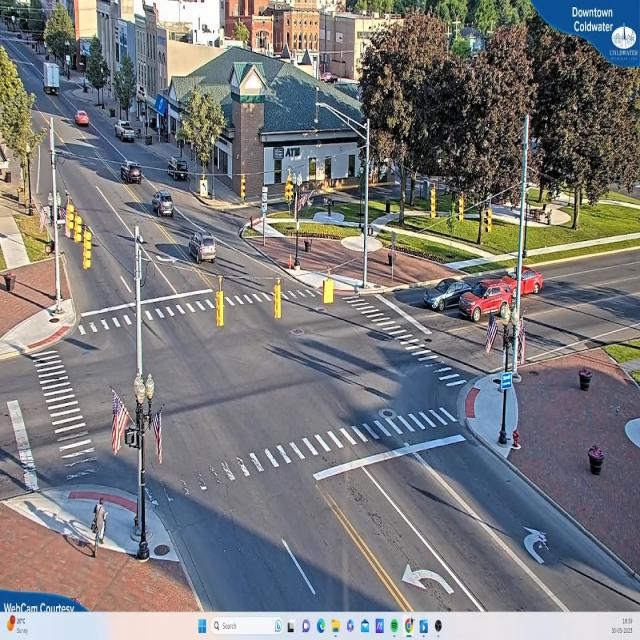car: (188, 233, 218, 264), (152, 190, 174, 218), (587, 442, 605, 474), (119, 162, 142, 184), (166, 160, 190, 181), (116, 123, 136, 143), (76, 110, 90, 128)
